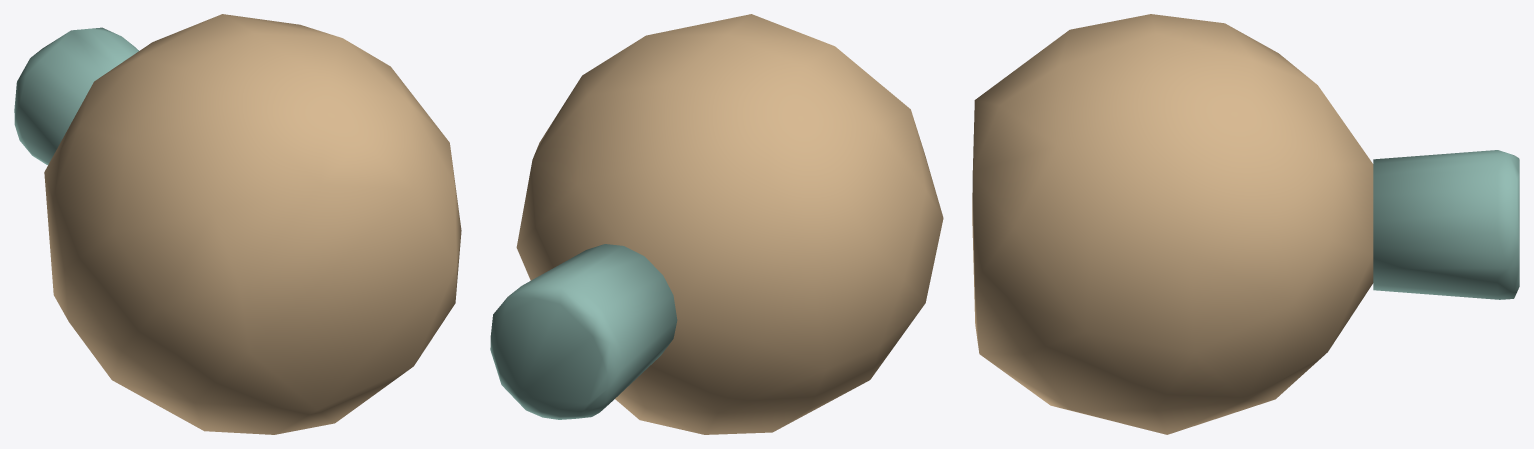
3 views of the same model, side by side, from view 1: azimuth 30°, elevation 25°; view 2: azimuth 150°, elevation 25°; view 3: azimuth 270°, elevation 25° (orthographic).
Bounding box in the file's own units: 1.4 × 1.42 × 1.84.
